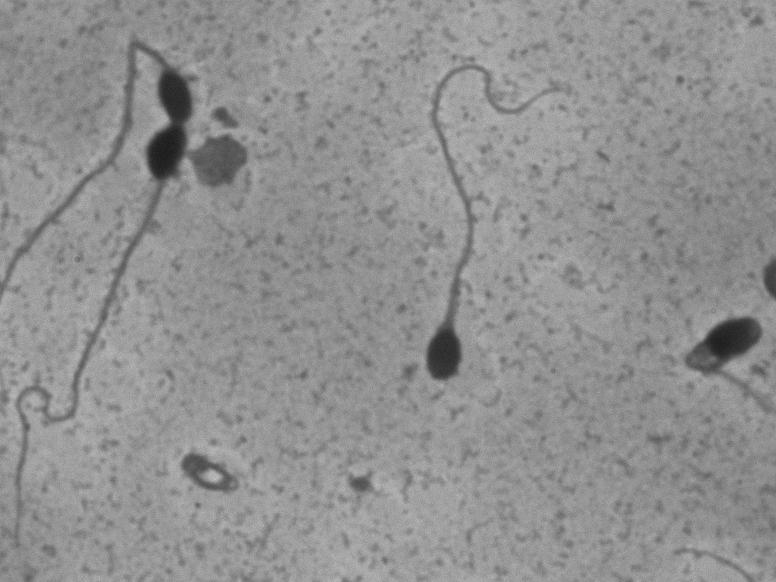Normal: (381, 54, 580, 414)
